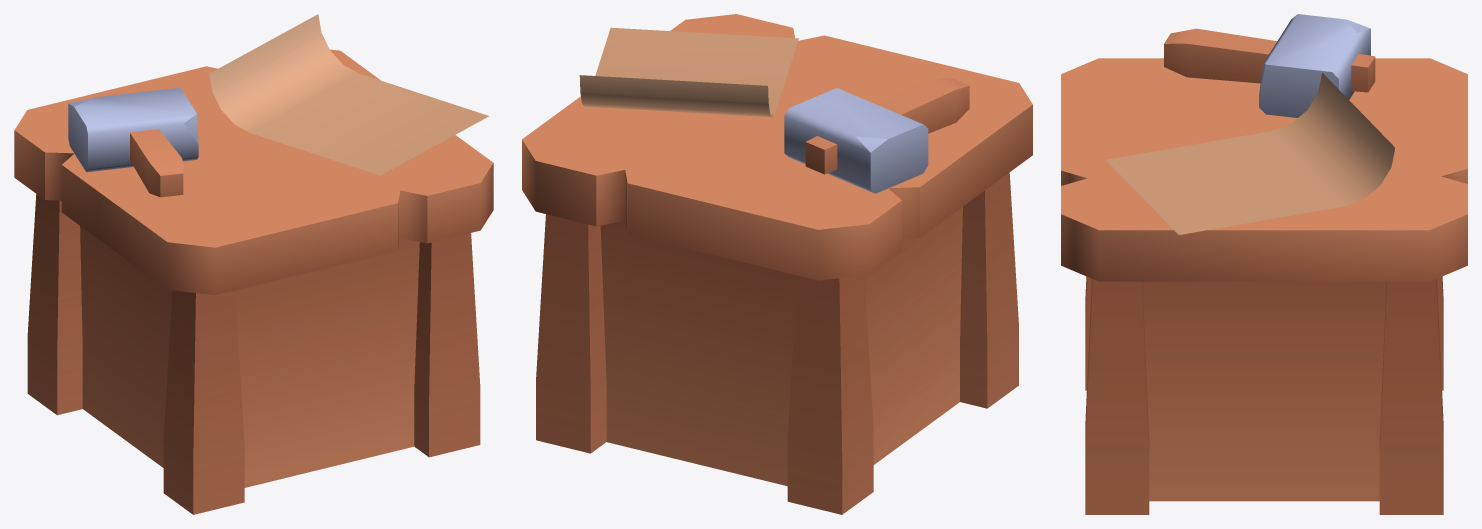
The model's file is kenney-survival-workbench.glb.
3 renders of one model, left to right at view 1: azimuth 30°, elevation 25°; view 2: azimuth 150°, elevation 25°; view 3: azimuth 270°, elevation 25°, orthographic. The views are drawn at different scales.
Parts seen in each view (by area): view 1: workbench; view 2: workbench; view 3: workbench.
Boxes of the visible parts, box(x1,y1,x2,y2) form: workbench: box(14, 14, 493, 514); workbench: box(522, 14, 1032, 514); workbench: box(1061, 14, 1467, 514).
Size of the model in its own units: 0.3257 by 0.2866 by 0.2956.
1 material, 1 textured.
